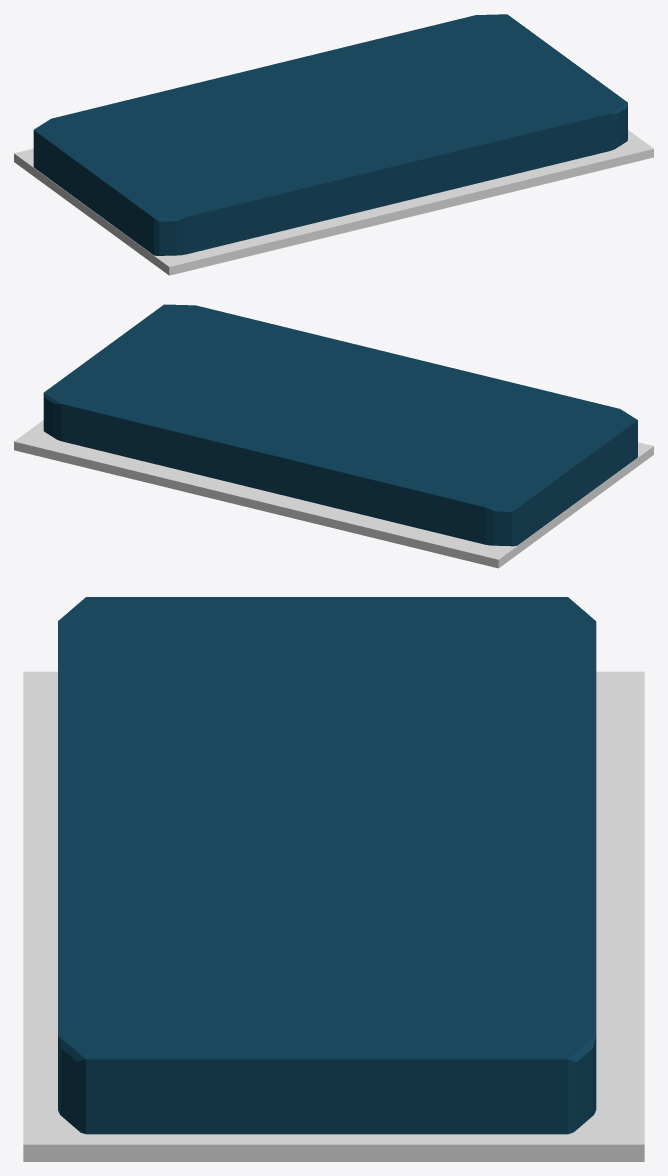
File: BedMattress.glb
3 views of the same model, one above another, from view 1: azimuth 30°, elevation 25°; view 2: azimuth 150°, elevation 25°; view 3: azimuth 270°, elevation 25° (orthographic). The views are drawn at different scales.
Visible parts, largest first — view 1: Mattress, Metal Frame; view 2: Mattress, Metal Frame; view 3: Mattress, Metal Frame.
Part boxes in pixels (box(x1,y1,x2,y2)): Mattress: box(33, 14, 627, 255); Metal Frame: box(14, 130, 653, 275); Mattress: box(43, 304, 637, 546); Metal Frame: box(14, 420, 653, 568); Mattress: box(58, 597, 596, 1134); Metal Frame: box(23, 671, 644, 1161).
Bounding box in the file's own units: 3.35 × 0.3041 × 1.86.
